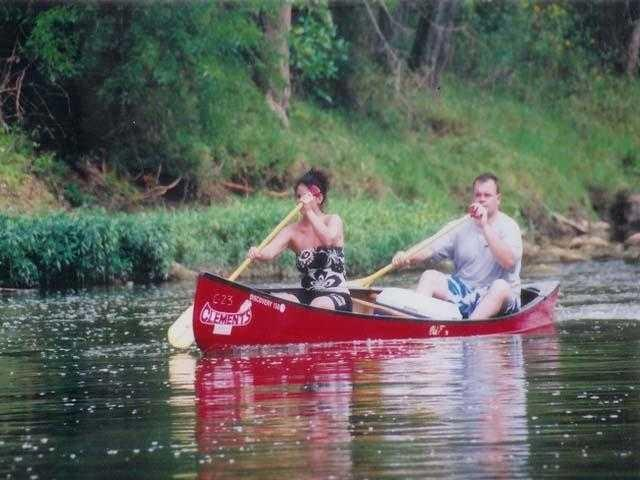kayak: (191, 273, 560, 347)
